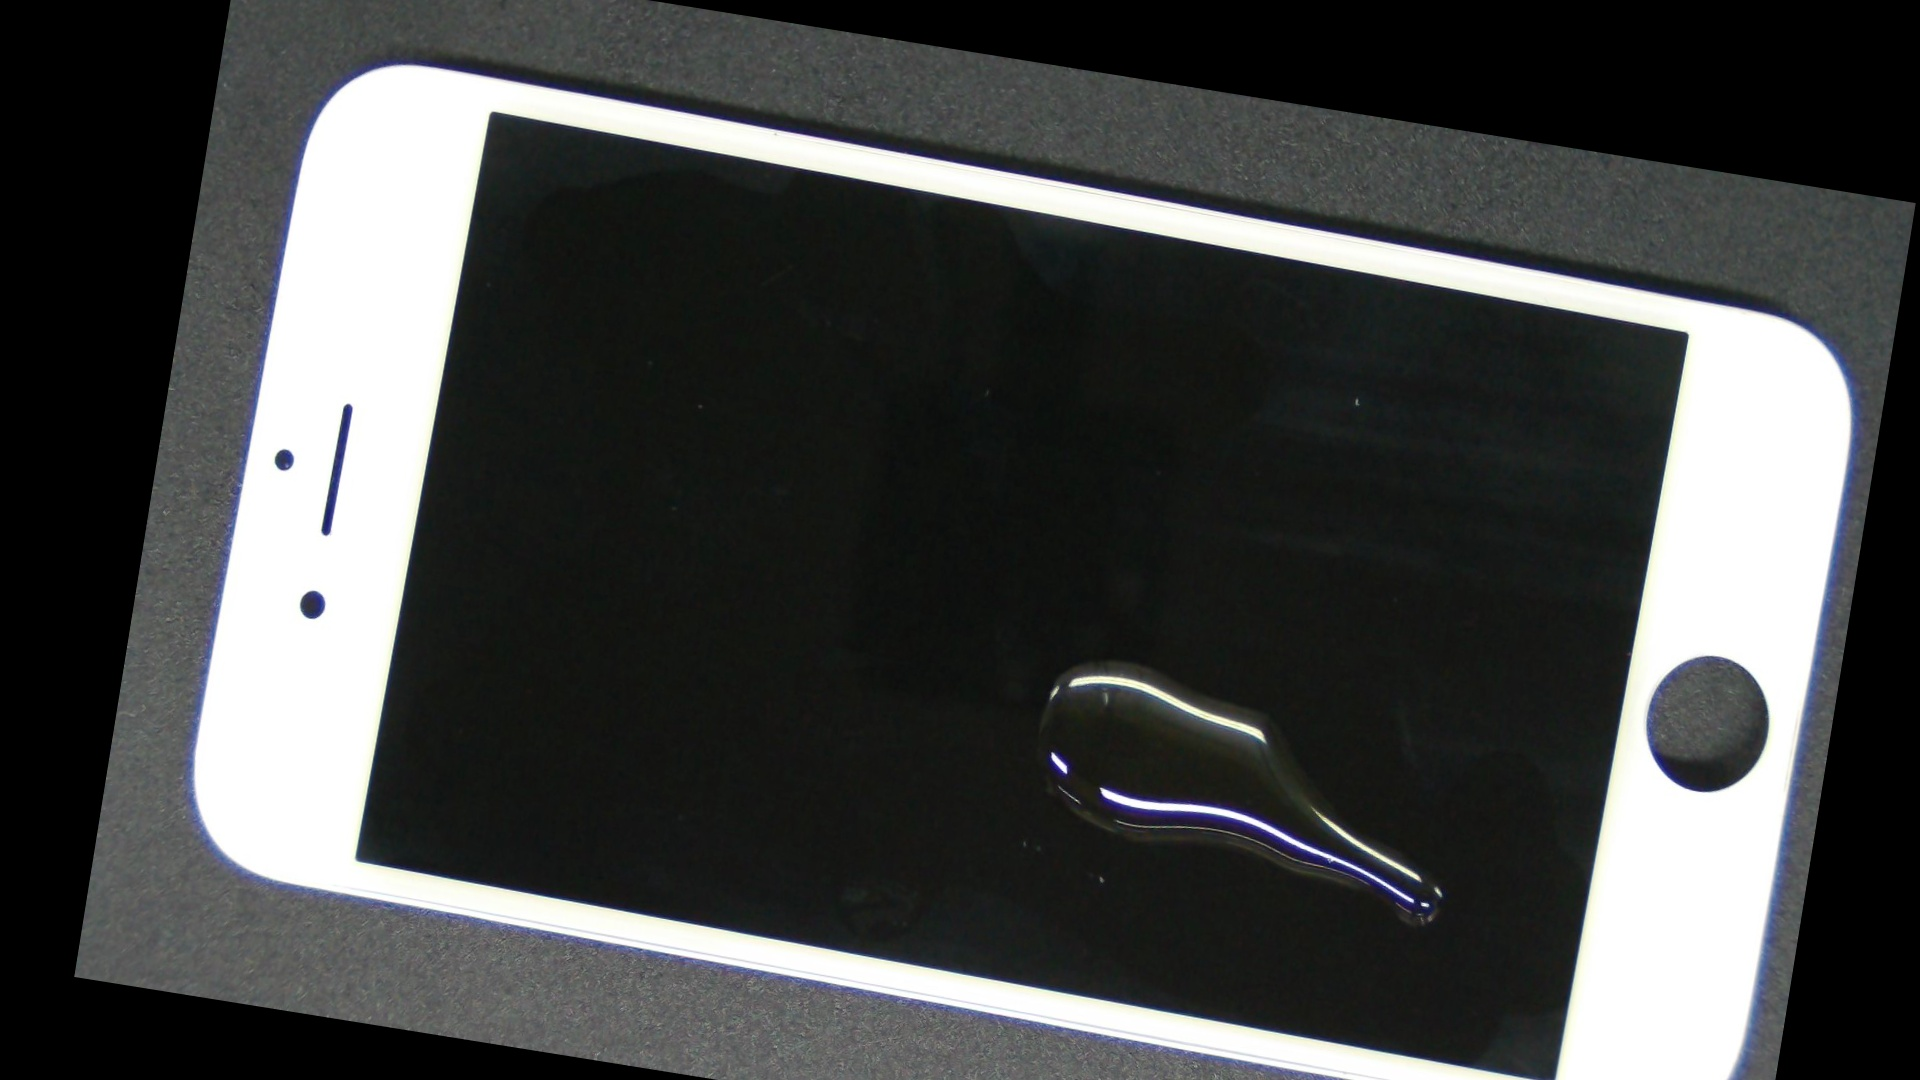oil: (588, 297, 1646, 1023)
